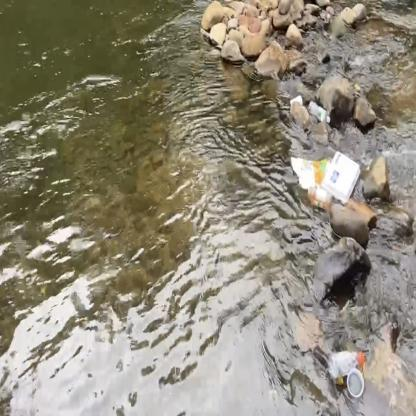trash: (320, 149, 362, 208), (290, 152, 336, 197), (327, 346, 368, 384), (306, 180, 335, 216), (345, 365, 367, 401), (306, 99, 333, 125), (286, 92, 304, 112)
